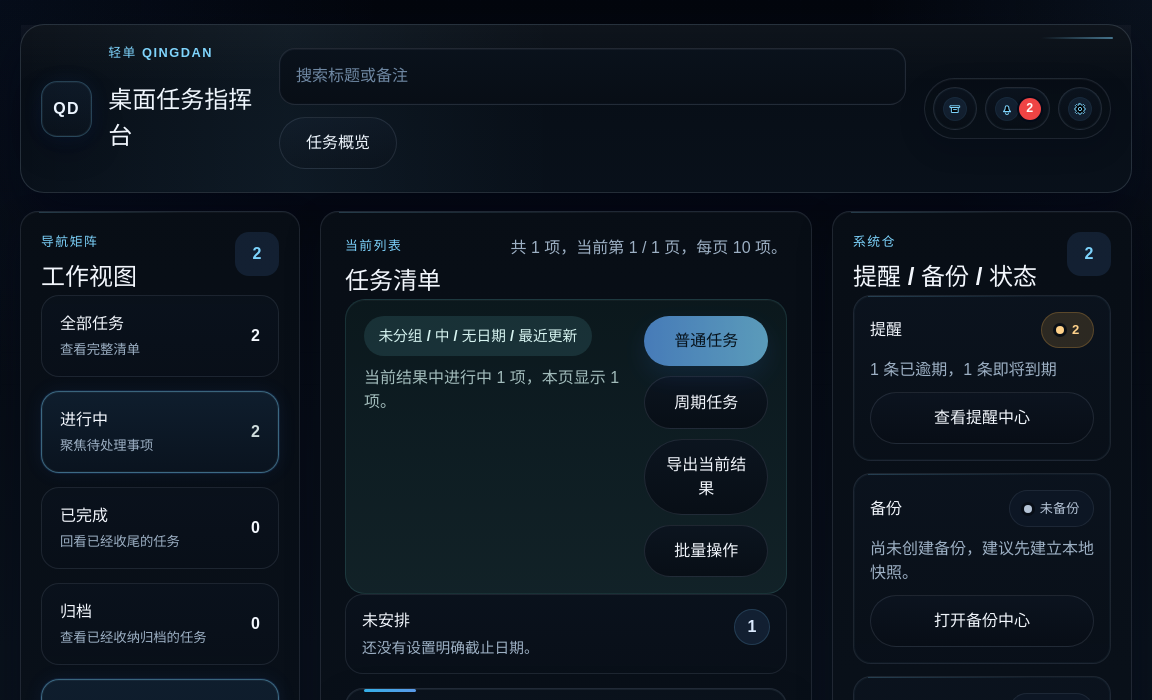
Scenario: AppShell console workspace › mounts the real backup center entry and opens the panel
The image size is (1152, 700).
Click the button named "备份与恢复" at {"x": 955, "y": 108}, box [933,87,977,130]
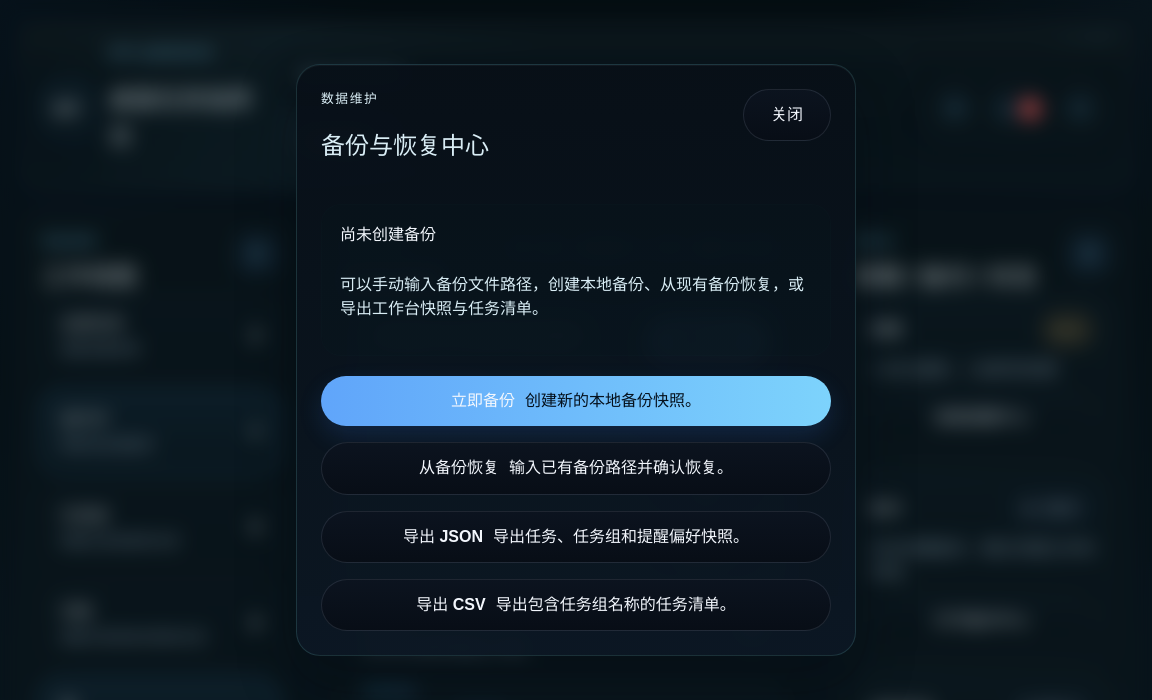
Result: the text "备份与恢复中心" is shown at [321,128,489,164]
Result: the text "立即备份" is shown at [451,389,515,413]
